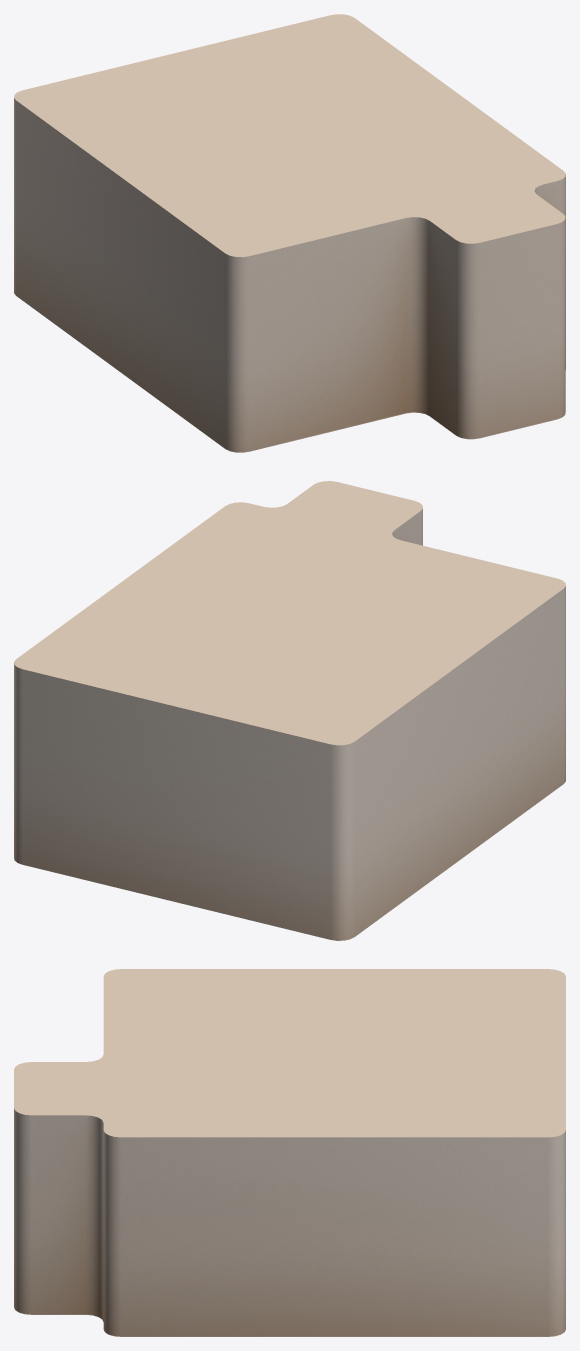
3 renders of one model, top to bottom at view 1: azimuth 30°, elevation 25°; view 2: azimuth 150°, elevation 25°; view 3: azimuth 270°, elevation 25°, orthographic. The views are drawn at different scales.
Visible parts, largest first — view 1: Plane.bake; view 2: Plane.bake; view 3: Plane.bake.
Boxes of the visible parts, x1,y1,x2,y2 form: Plane.bake: (14,14,565,452); Plane.bake: (14,481,565,940); Plane.bake: (14,969,565,1336).
Bounding box in the file's own units: 9.65 × 5.33 × 13.37.
1 material, 1 textured.
